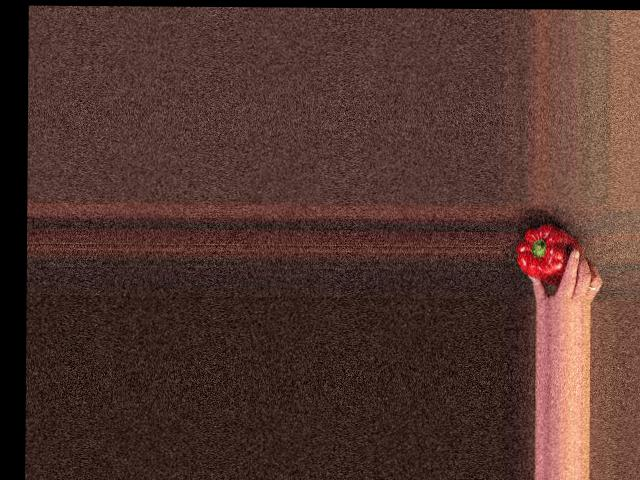bell_pepper: (514, 222, 577, 282)
